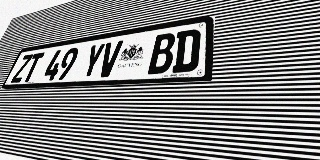4: (42, 49, 66, 81)
9: (55, 47, 80, 80)
B: (147, 32, 176, 74)
D: (172, 28, 201, 73)
T: (21, 52, 45, 82)
V: (96, 40, 123, 78)
Y: (79, 43, 106, 79)
Z: (10, 54, 34, 83)
